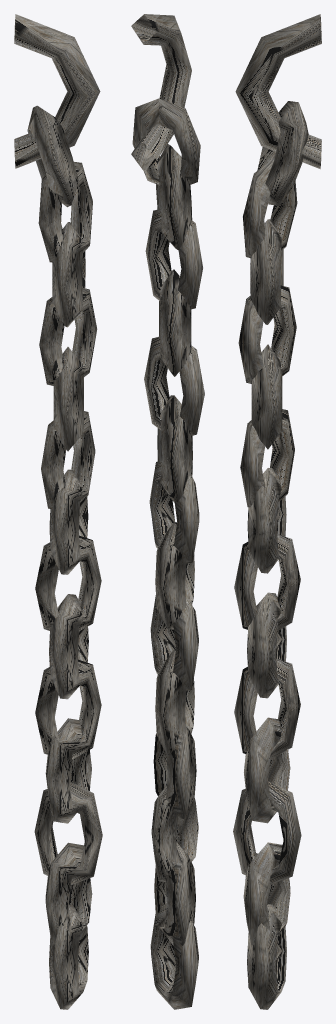
File: Chain.obj
3 views of the same model, side by side, from view 1: azimuth 90°, elevation 25°; view 2: azimuth 150°, elevation 25°; view 3: azimuth 270°, elevation 25° (orthographic). The views are drawn at different scales.
Parts seen in each view (by area): view 1: SM_GDC2012_Throne_Interior_Chain_05; view 2: SM_GDC2012_Throne_Interior_Chain_05; view 3: SM_GDC2012_Throne_Interior_Chain_05.
Part boxes in pixels (<box>): SM_GDC2012_Throne_Interior_Chain_05: <box>14,14,102,1009</box>; SM_GDC2012_Throne_Interior_Chain_05: <box>131,14,204,1009</box>; SM_GDC2012_Throne_Interior_Chain_05: <box>233,14,321,1009</box>.
Bounding box in the file's own units: 14.94 × 238 × 19.22.
Materials: 1 (1 with a texture image).
